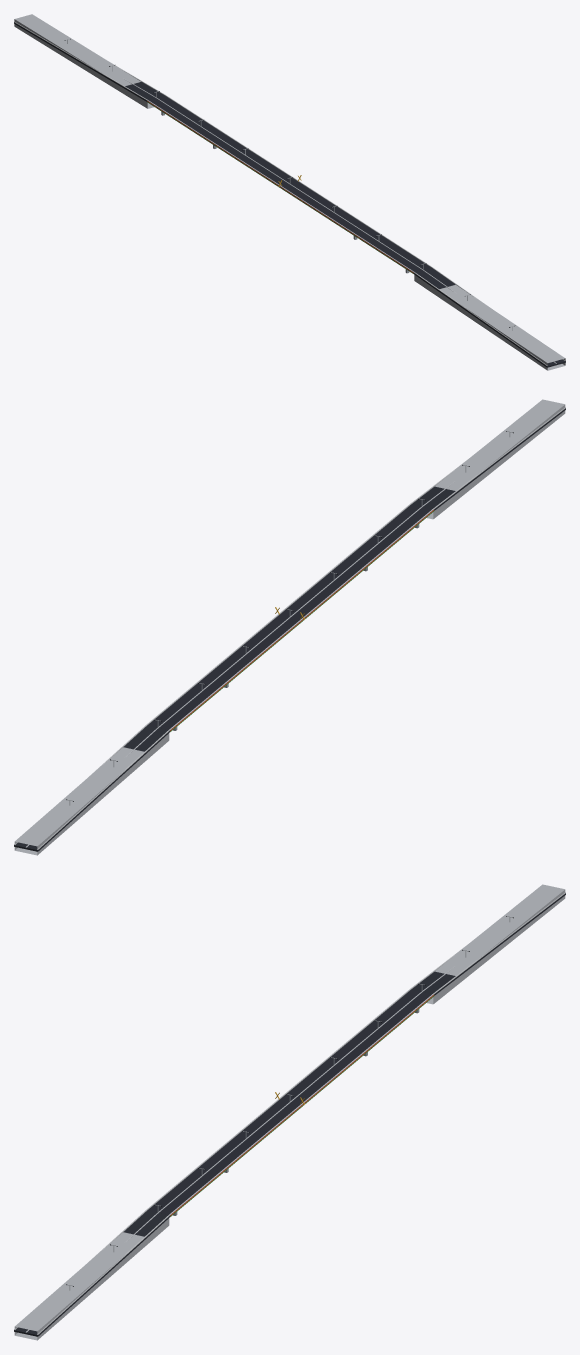
Rendered from flyover-ska-lod0.glb.
3 renders of one model, top to bottom at view 1: azimuth 30°, elevation 25°; view 2: azimuth 150°, elevation 25°; view 3: azimuth 330°, elevation 25°, orthographic. The views are drawn at different scales.
Parts seen in each view (by area): view 1: flyover-ska_LOD0; view 2: flyover-ska_LOD0; view 3: flyover-ska_LOD0.
Boxes of the visible parts, x1,y1,x2,y2 form: flyover-ska_LOD0: [14, 14, 565, 370]; flyover-ska_LOD0: [14, 399, 565, 855]; flyover-ska_LOD0: [14, 884, 565, 1340].
Bounding box in the file's own units: 56.91 × 15.08 × 720.
